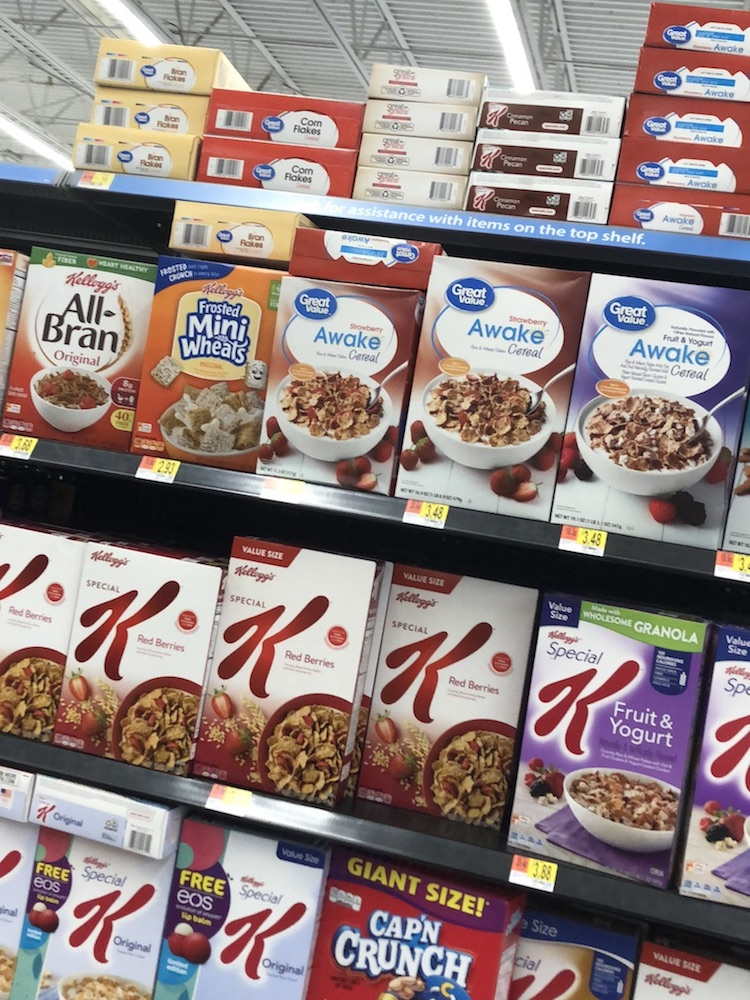Frosted Mini Original -9295869: (147, 263, 260, 453)
